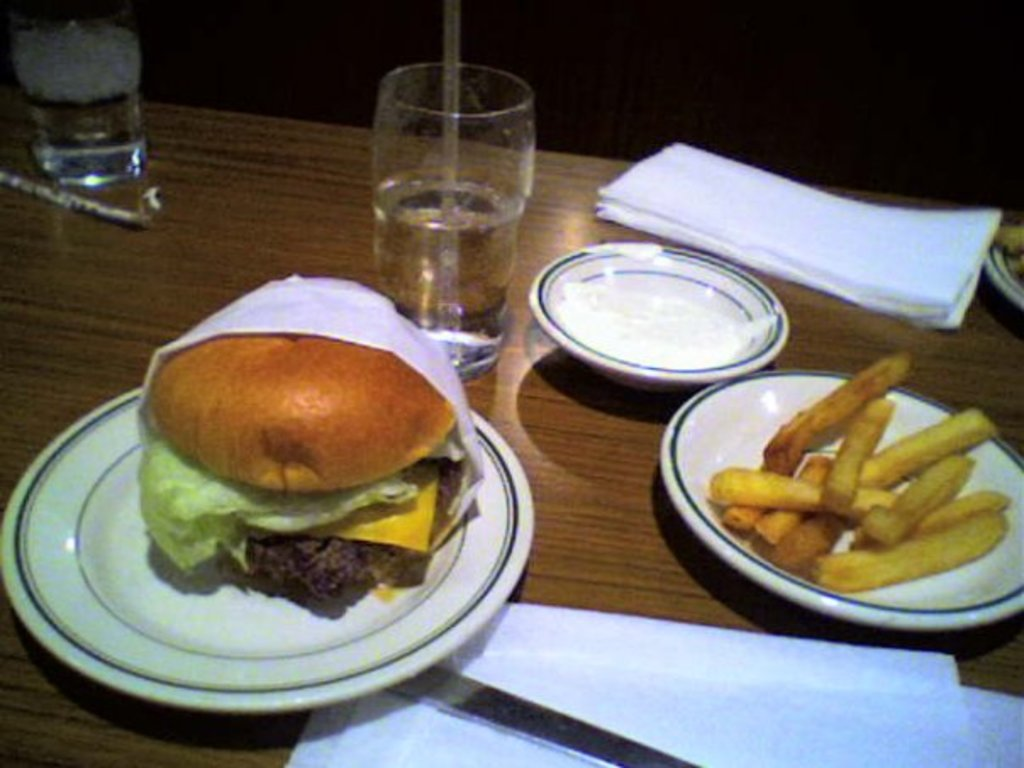French fries: (810, 500, 1010, 598), (768, 345, 918, 461), (856, 403, 996, 478), (856, 452, 974, 539), (886, 484, 1013, 547), (823, 391, 886, 513), (759, 452, 834, 539), (761, 501, 845, 569), (705, 464, 825, 508), (725, 459, 791, 532), (845, 484, 895, 522)
